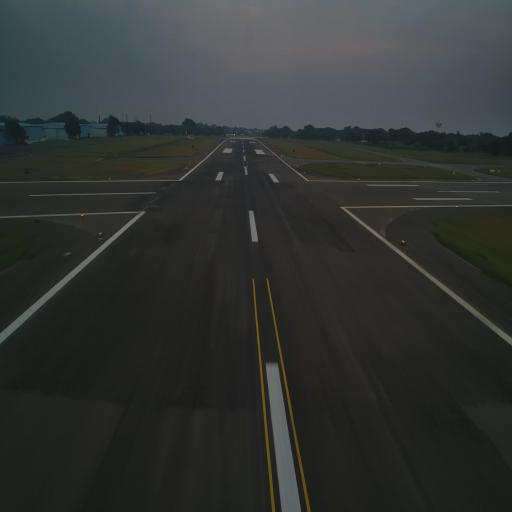on: (96, 230, 104, 240), (400, 236, 406, 248), (80, 211, 85, 219), (454, 202, 459, 210), (358, 176, 360, 182)
